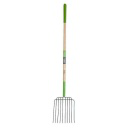Fork: (53, 3, 88, 128)
